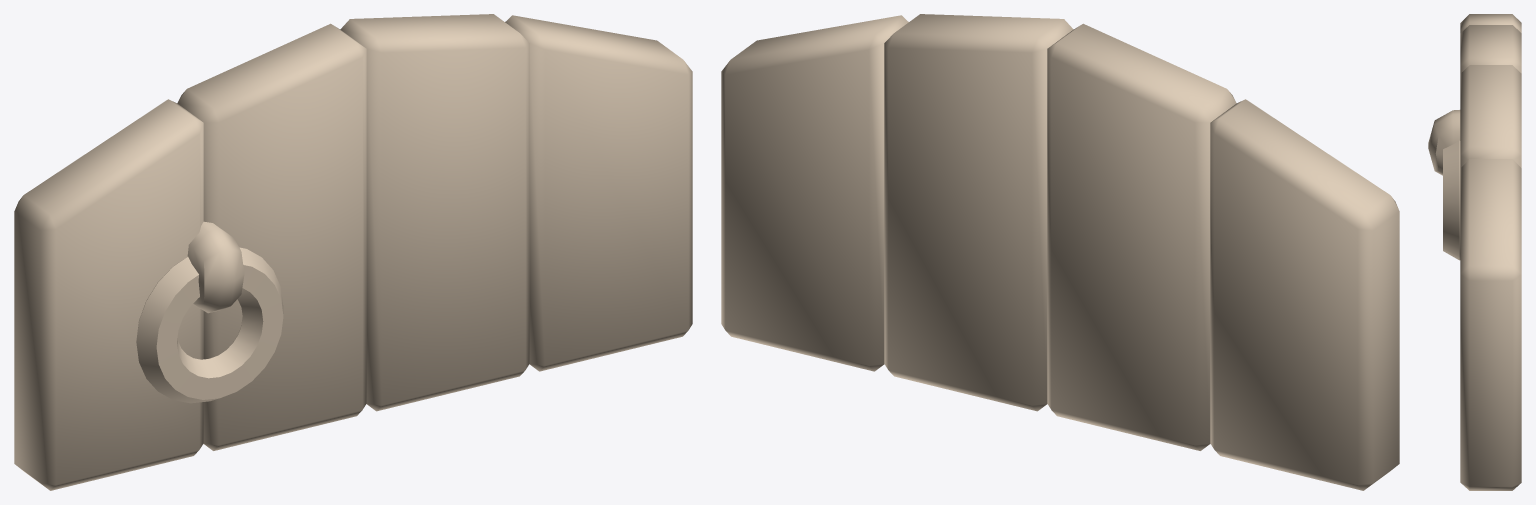
Rendered from gate_single.glb.
3 renders of one model, left to right at view 1: azimuth 30°, elevation 25°; view 2: azimuth 150°, elevation 25°; view 3: azimuth 270°, elevation 25°, orthographic. The views are drawn at different scales.
Visible parts, largest first — view 1: gate_single; view 2: gate_single; view 3: gate_single.
Boxes of the visible parts, x1,y1,x2,y2 form: gate_single: (14,14,692,490); gate_single: (721,14,1399,490); gate_single: (1428,14,1521,490).
Bounding box in the file's own units: 2 × 1.09 × 0.3051.
